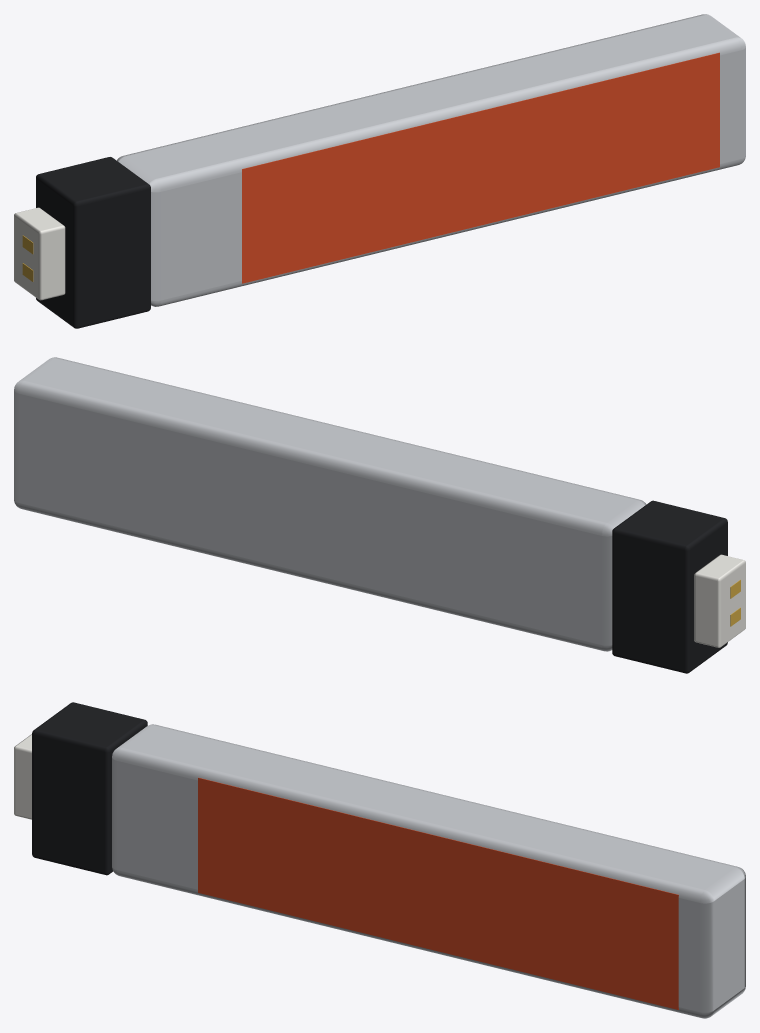
File: betafpv-lava-1s-300.glb
3 renders of one model, top to bottom at view 1: azimuth 30°, elevation 25°; view 2: azimuth 150°, elevation 25°; view 3: azimuth 330°, elevation 25°, orthographic.
Parts seen in each view (by area): view 1: label, body, connector_housing, connector; view 2: body, connector_housing, connector; view 3: label, body, connector_housing, connector.
Boxes of the visible parts, box(x1,y1,x2,y2) form: label: box(242, 52, 719, 283); body: box(117, 14, 745, 306); connector_housing: box(36, 157, 150, 328); connector: box(14, 207, 65, 300); body: box(14, 357, 646, 651); connector_housing: box(612, 500, 727, 673); connector: box(694, 554, 745, 647); label: box(198, 777, 678, 1009); body: box(112, 724, 745, 1018); connector_housing: box(32, 702, 147, 875); connector: box(14, 734, 31, 819).
Bounding box in the file's own units: 63.55 × 11 × 6.43.
